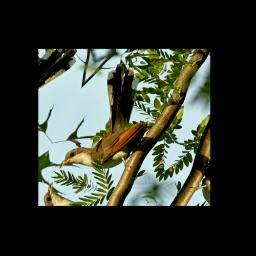Cuckoo: (58, 61, 174, 188)
